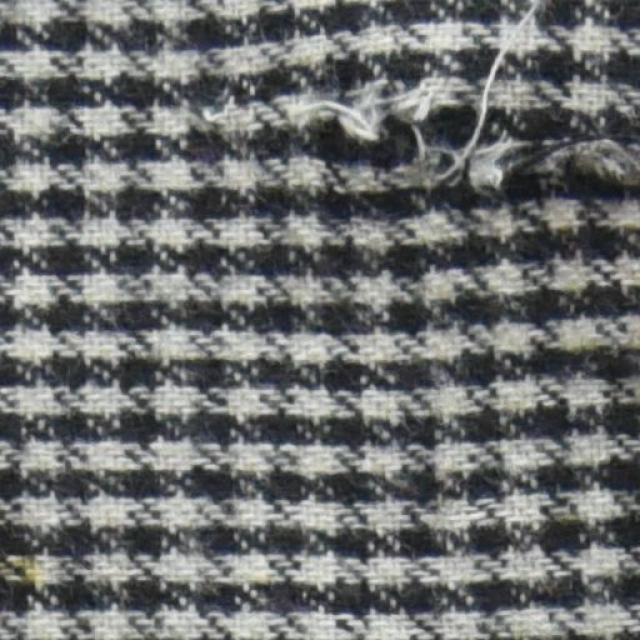Snag: (204, 0, 639, 211)
